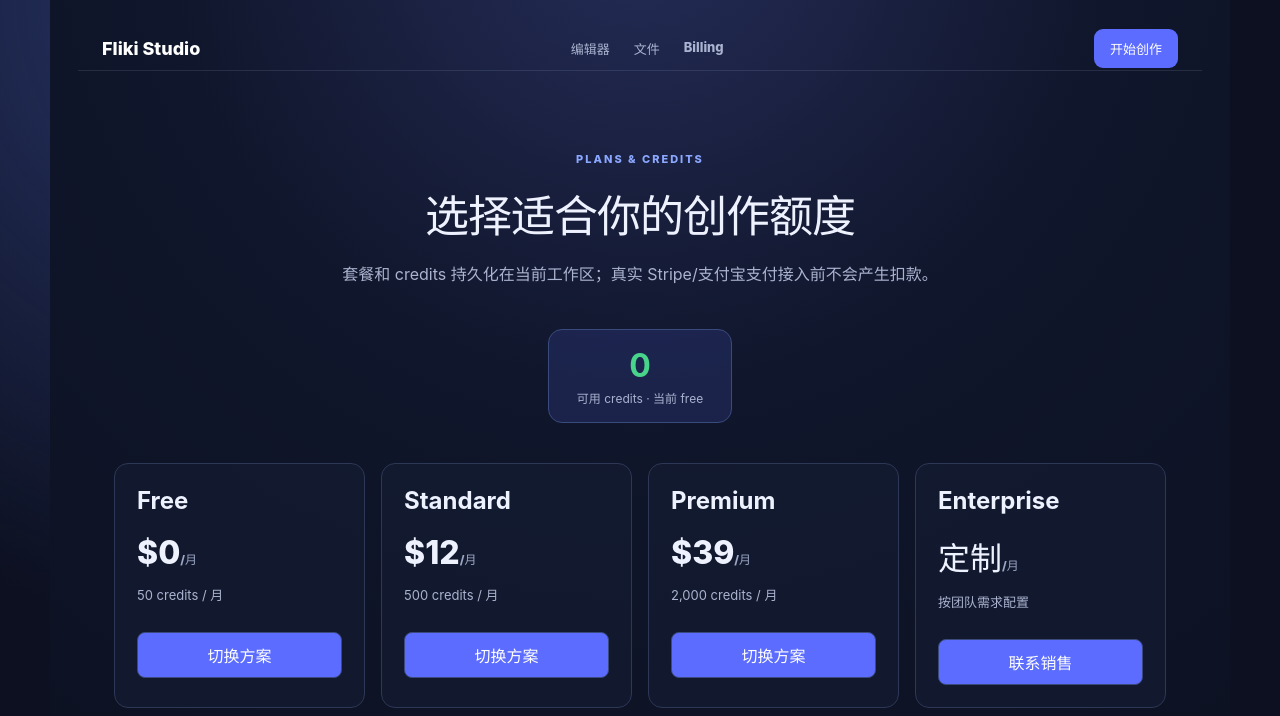
Test case: BillingPage R14 (rev39) › subscribe error -> shows .billingError with server message
Click the button with aria-label "切换到 Standard 套餐".
click(506, 655)  # box [404, 632, 609, 678]
(page scrolled)
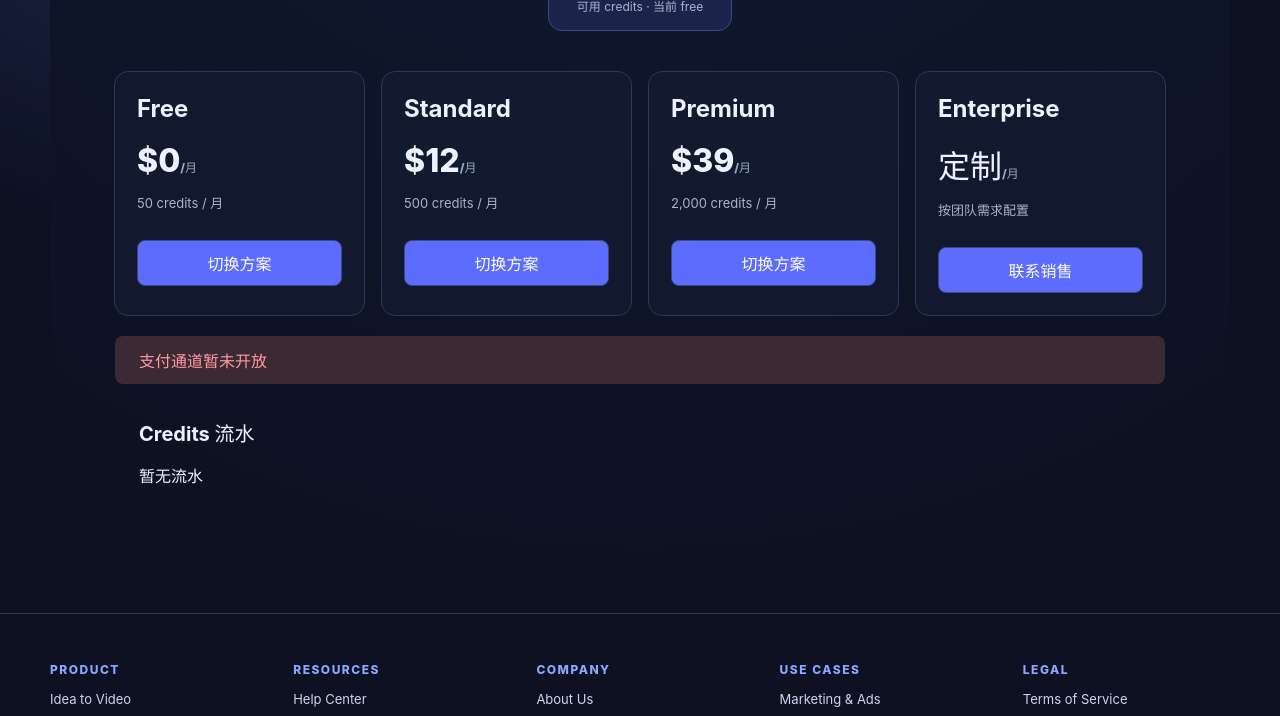
Result: the text with class "billingError" reads "支付通道暂未开放" at [139, 351, 267, 371]
